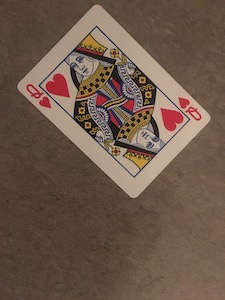QueenOfHearts: (16, 3, 214, 205)
